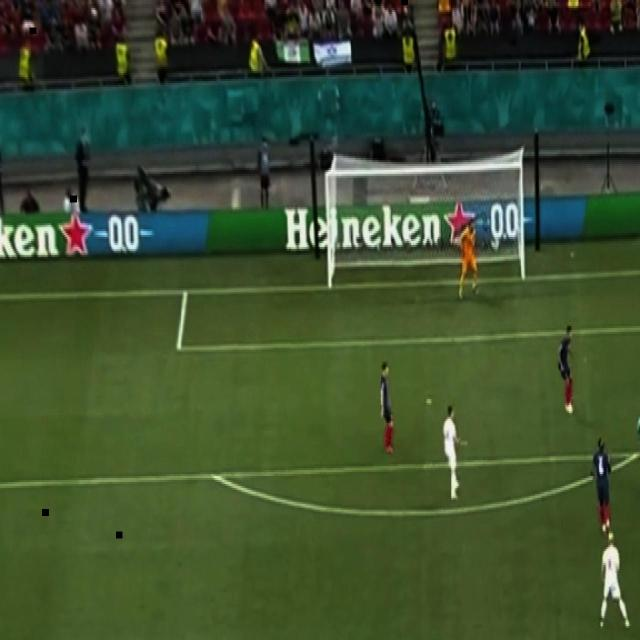player-white: (596, 528, 632, 638), (588, 432, 616, 538), (440, 398, 468, 503), (453, 212, 482, 302), (554, 320, 578, 412), (378, 353, 397, 462), (630, 393, 640, 498)
